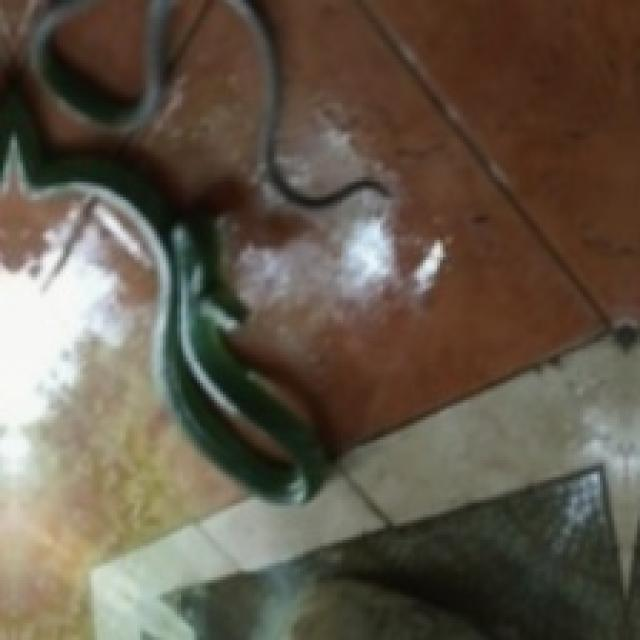red-tailed green ratsnake: (0, 0, 386, 500)
